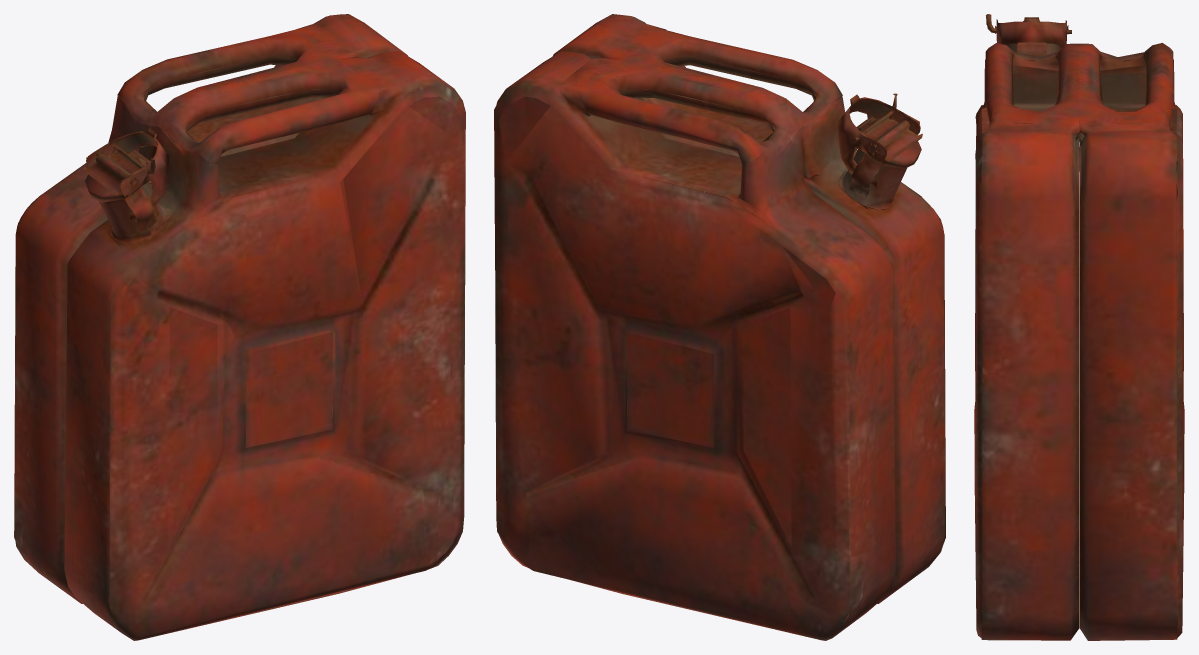
The model's file is isl_jerry.glb.
The picture shows the model from 3 angles, left to right: view 1: azimuth 30°, elevation 25°; view 2: azimuth 150°, elevation 25°; view 3: azimuth 270°, elevation 25°; orthographic projection. The views are drawn at different scales.
Visible parts, largest first — view 1: metal_jerrycan; view 2: metal_jerrycan; view 3: metal_jerrycan.
Boxes of the visible parts, box(x1,y1,x2,y2) form: metal_jerrycan: box(14, 14, 465, 640); metal_jerrycan: box(494, 14, 945, 640); metal_jerrycan: box(974, 14, 1184, 640).
Size of the model in its own units: 0.3496 by 0.4545 by 0.1722.
1 material, 1 textured.
